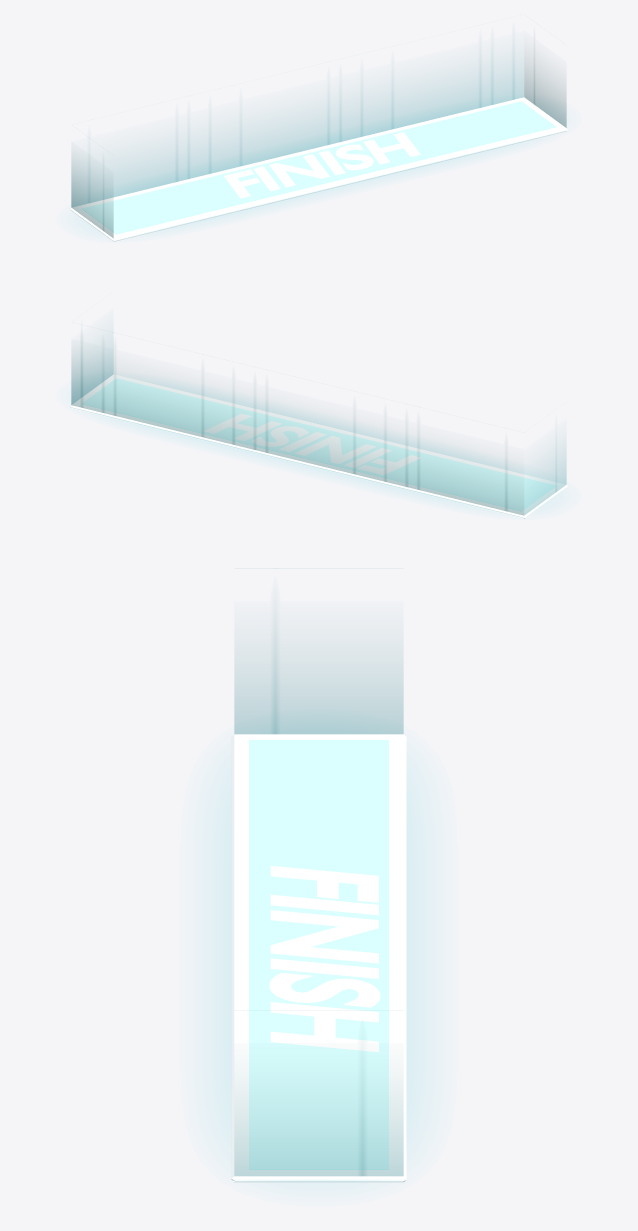
Rendered from finish_gate.glb.
3 views of the same model, one above another, from view 1: azimuth 30°, elevation 25°; view 2: azimuth 150°, elevation 25°; view 3: azimuth 270°, elevation 25° (orthographic). The views are drawn at different scales.
Visible parts, largest first — view 1: FinishCurtain, PadPanel, PadRim, FinishText, FinishHalo; view 2: FinishCurtain, PadPanel, PadRim, FinishText, FinishHalo; view 3: PadPanel, FinishCurtain, PadRim, FinishHalo, FinishText.
Boxes of the visible parts, x1,y1,x2,y2 form: FinishCurtain: (71,45,566,237); PadPanel: (81,101,556,234); PadRim: (70,97,567,241); FinishText: (224,132,420,198); FinishHalo: (82,139,531,232); FinishCurtain: (71,331,566,515); PadPanel: (82,378,556,511); PadRim: (70,374,567,518); FinishText: (204,413,420,474); FinishHalo: (106,387,555,509); PadPanel: (249,740,388,1169); FinishCurtain: (234,622,403,1176); PadRim: (231,734,406,1182); FinishHalo: (212,768,425,1183); FinishText: (269,866,380,1052).
Bounding box in the file's own units: 21 × 3.26 × 5.4.
Materials: 5 (2 with a texture image).
